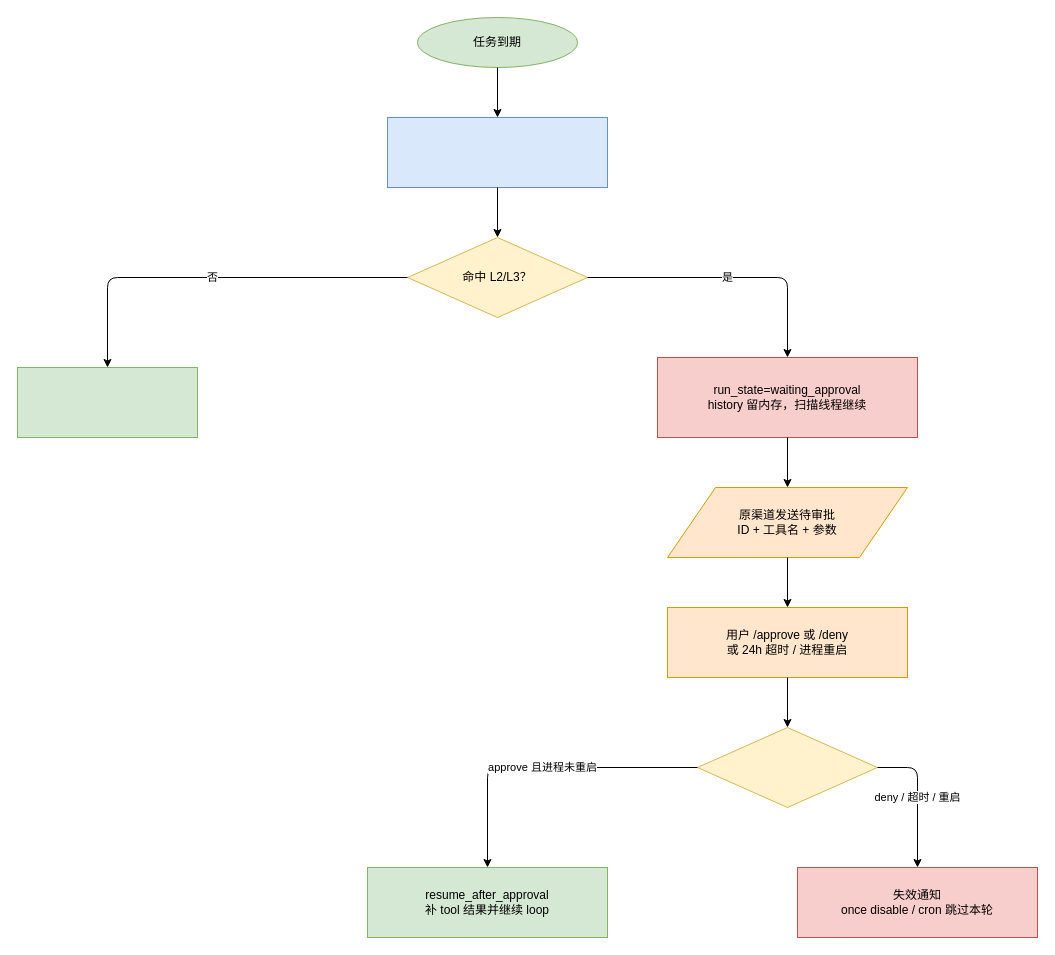
Some shapes in this 1055 by 955 pixel diagram are drawn without their labels. The centre of each missing label's shape, as x and y in pixels:
SchedulerExecutor agent_task / tool_call: the point at 497,152
仍可恢复？: the point at 787,767
执行并投递 _advance 日程: the point at 107,402
